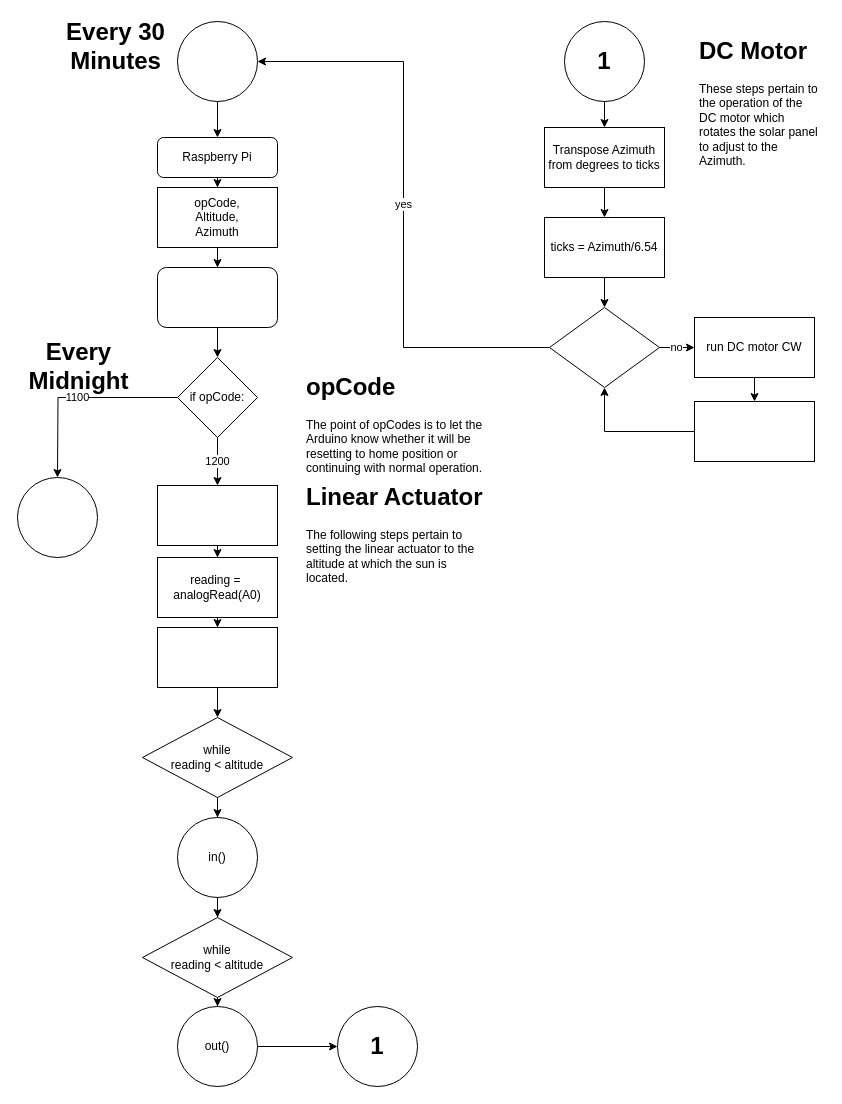
The diagram is 842 pixels wide and 1104 high, and some of its shapes have lost their labels. The shapes that lost their labels are listed below. From the top down, each one's box as (x1, y1, x2, y2) in pixels, then its label:
(176, 20, 258, 102): Start
(156, 266, 278, 328): Arduino Uno
(548, 306, 660, 388): while ticks<Count
(694, 400, 814, 462): Count += 1
(16, 476, 98, 558): reset()
(156, 484, 278, 546): position = analogRead(LA)
(156, 626, 278, 688): map(reading, 0, 90)
